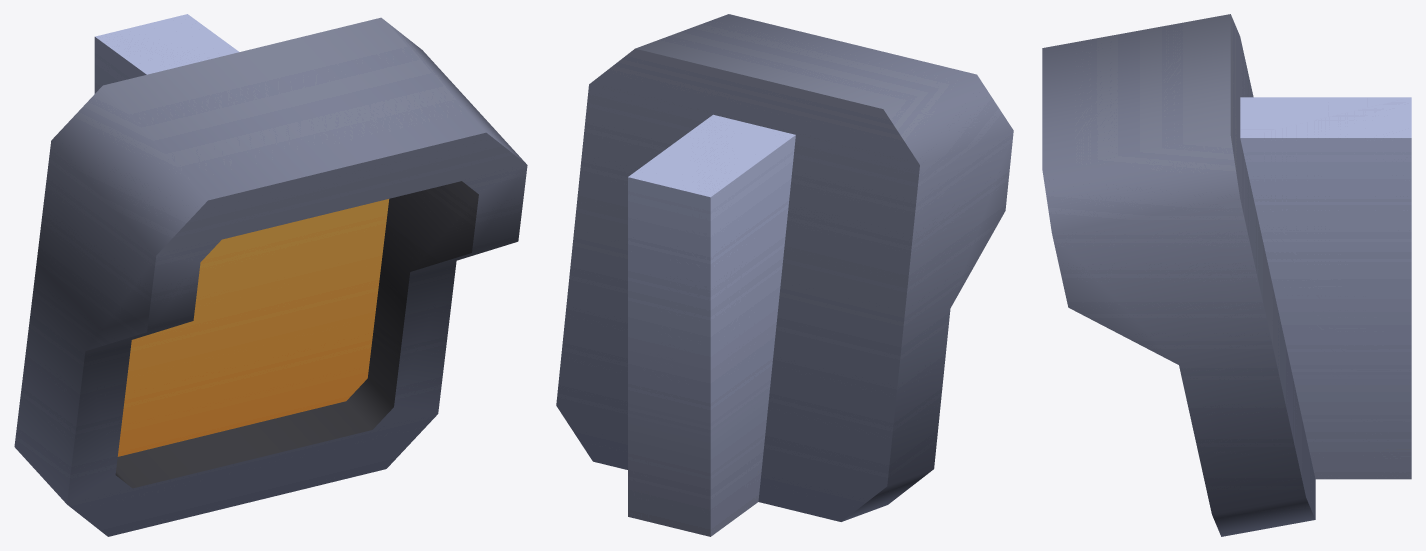
The model's file is display-wall.glb.
3 views of the same model, side by side, from view 1: azimuth 30°, elevation 25°; view 2: azimuth 150°, elevation 25°; view 3: azimuth 270°, elevation 25° (orthographic). The views are drawn at different scales.
Parts seen in each view (by area): view 1: display-wall; view 2: display-wall; view 3: display-wall.
Part boxes in pixels (x1,y1,x2,y2): display-wall: (14,14,527,536); display-wall: (556,14,1013,536); display-wall: (1042,14,1411,536).
Size of the model in its own units: 0.4 by 0.4609 by 0.3844.
Materials: 1 (1 with a texture image).
